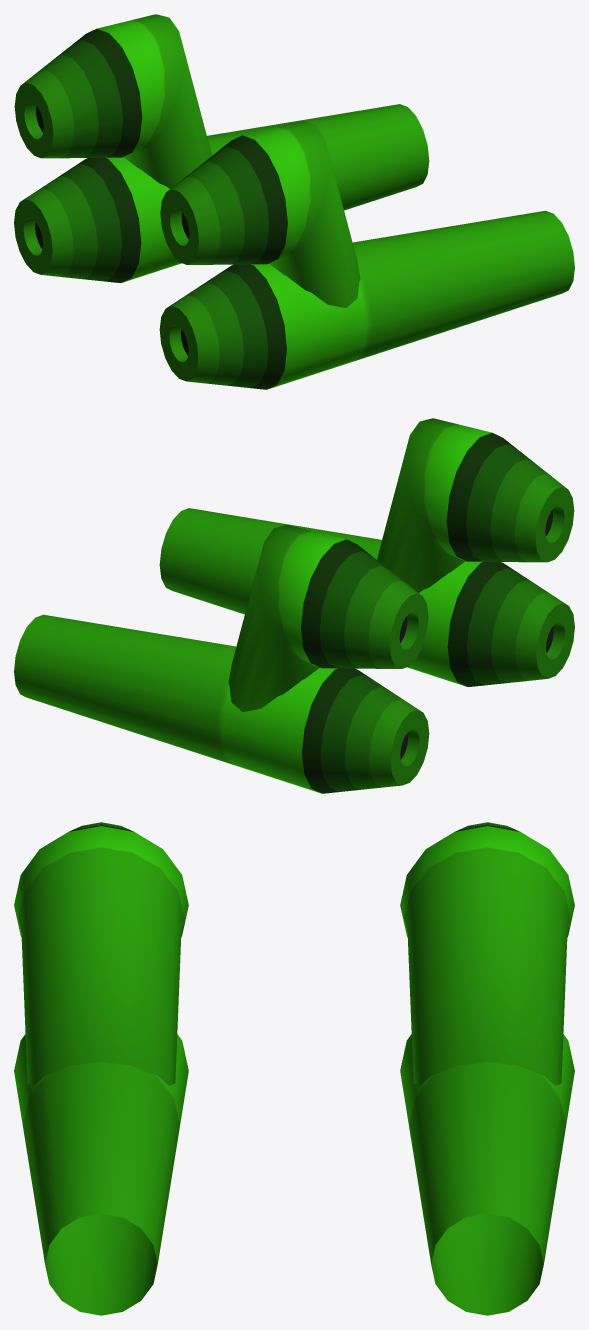
The model's file is Druid_Exhaust.FBX.
3 views of the same model, one above another, from view 1: azimuth 30°, elevation 25°; view 2: azimuth 150°, elevation 25°; view 3: azimuth 270°, elevation 25° (orthographic). The views are drawn at different scales.
Parts seen in each view (by area): view 1: Exhaust_Druid; view 2: Exhaust_Druid; view 3: Exhaust_Druid.
Part boxes in pixels (x1,y1,x2,y2): Exhaust_Druid: [14, 14, 574, 389]; Exhaust_Druid: [14, 418, 574, 793]; Exhaust_Druid: [14, 822, 574, 1315].
Size of the model in its own units: 73.35 by 46.03 by 71.76.
